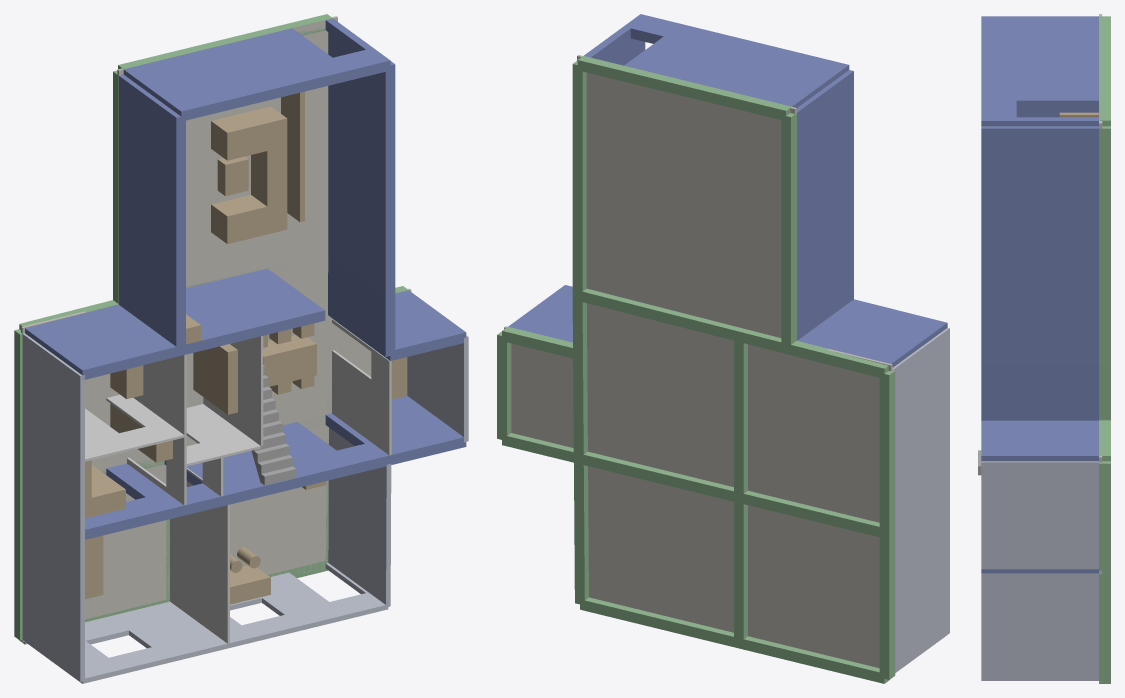
File: distribucion_deseada.glb
The picture shows the model from 3 angles, left to right: view 1: azimuth 30°, elevation 25°; view 2: azimuth 150°, elevation 25°; view 3: azimuth 270°, elevation 25°; orthographic projection. The views are drawn at different scales.
Parts seen in each view (by area): view 1: muros_29cm, muros_14cm, solera, tabiques_7cm, mobiliario, zunchos, escalera; view 2: solera, zunchos, muros_29cm, muros_14cm; view 3: muros_29cm, muros_14cm, zunchos, mobiliario.
Boxes of the visible parts, x1,y1,x2,y2 form: muros_29cm: [25, 18, 466, 539]; muros_14cm: [22, 333, 468, 683]; solera: [21, 16, 411, 642]; tabiques_7cm: [85, 319, 391, 643]; mobiliario: [85, 91, 407, 604]; zunchos: [14, 14, 408, 644]; escalera: [251, 365, 296, 485]; solera: [504, 55, 892, 668]; zunchos: [497, 56, 895, 683]; muros_29cm: [508, 14, 947, 367]; muros_14cm: [892, 327, 949, 672]; muros_29cm: [981, 16, 1098, 573]; muros_14cm: [981, 461, 1098, 680]; zunchos: [1099, 16, 1110, 683]; mobiliario: [1059, 112, 1098, 117].
Bounding box in the file's own units: 11.85 × 15.85 × 3.38.
